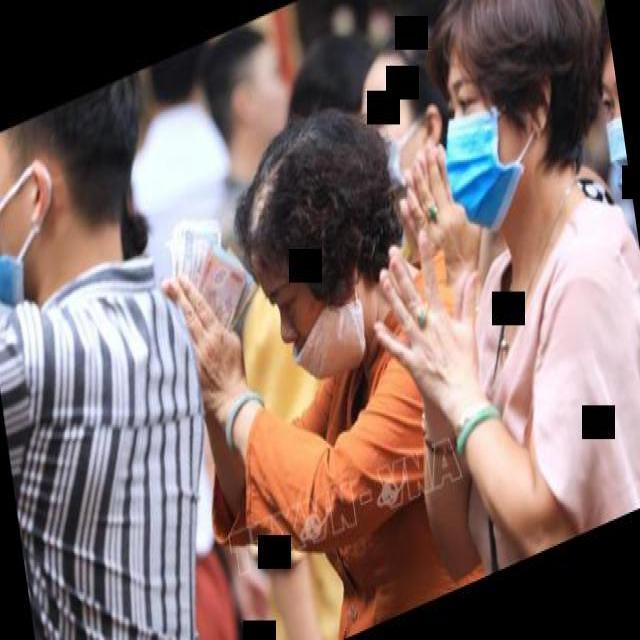hairnet: (277, 286, 368, 381)
